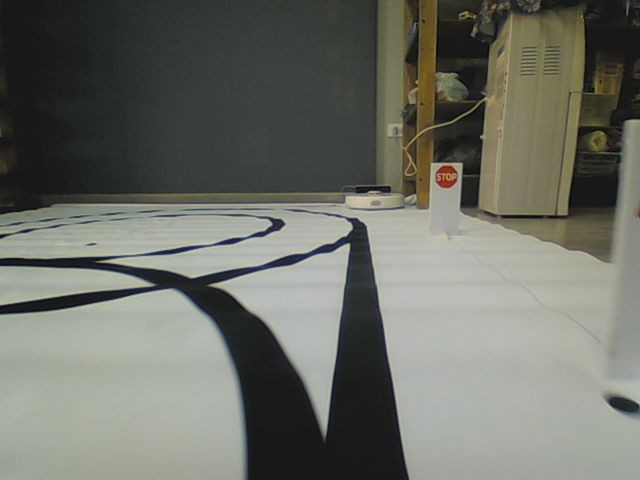Stop: (433, 166, 458, 188)
